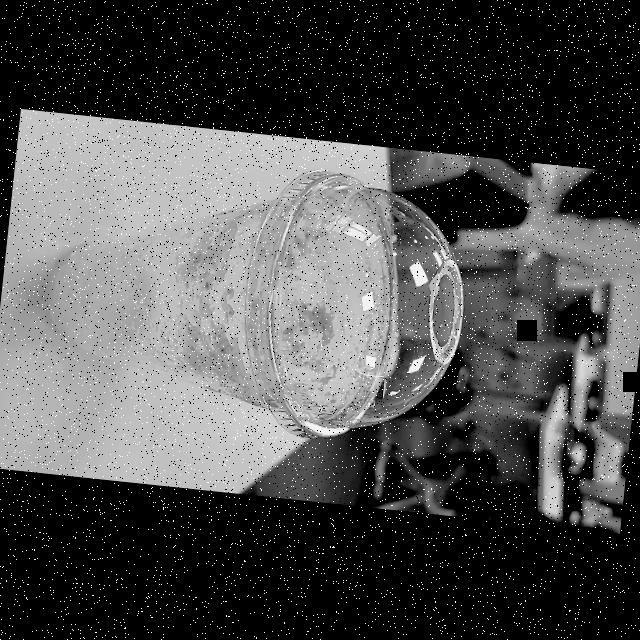plastic_cup: (29, 136, 480, 454)
plastic_cup_lid: (230, 160, 477, 452)
